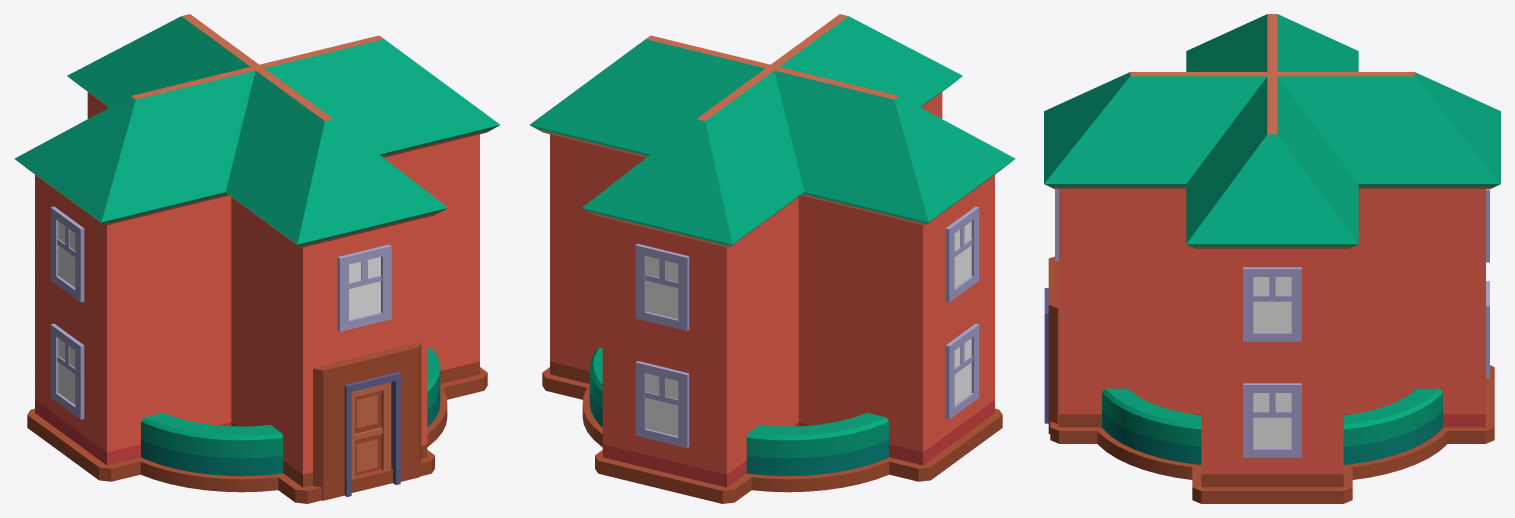
File: house3.fbx
3 renders of one model, left to right at view 1: azimuth 30°, elevation 25°; view 2: azimuth 150°, elevation 25°; view 3: azimuth 270°, elevation 25°, orthographic.
Parts seen in each view (by area): view 1: mergedBlocks; view 2: mergedBlocks; view 3: mergedBlocks.
Boxes of the visible parts, box(x1,y1,x2,y2) form: mergedBlocks: box(14, 14, 499, 503); mergedBlocks: box(530, 14, 1015, 503); mergedBlocks: box(1044, 14, 1500, 503).
Size of the model in its own units: 32.12 by 26.06 by 32.12.
